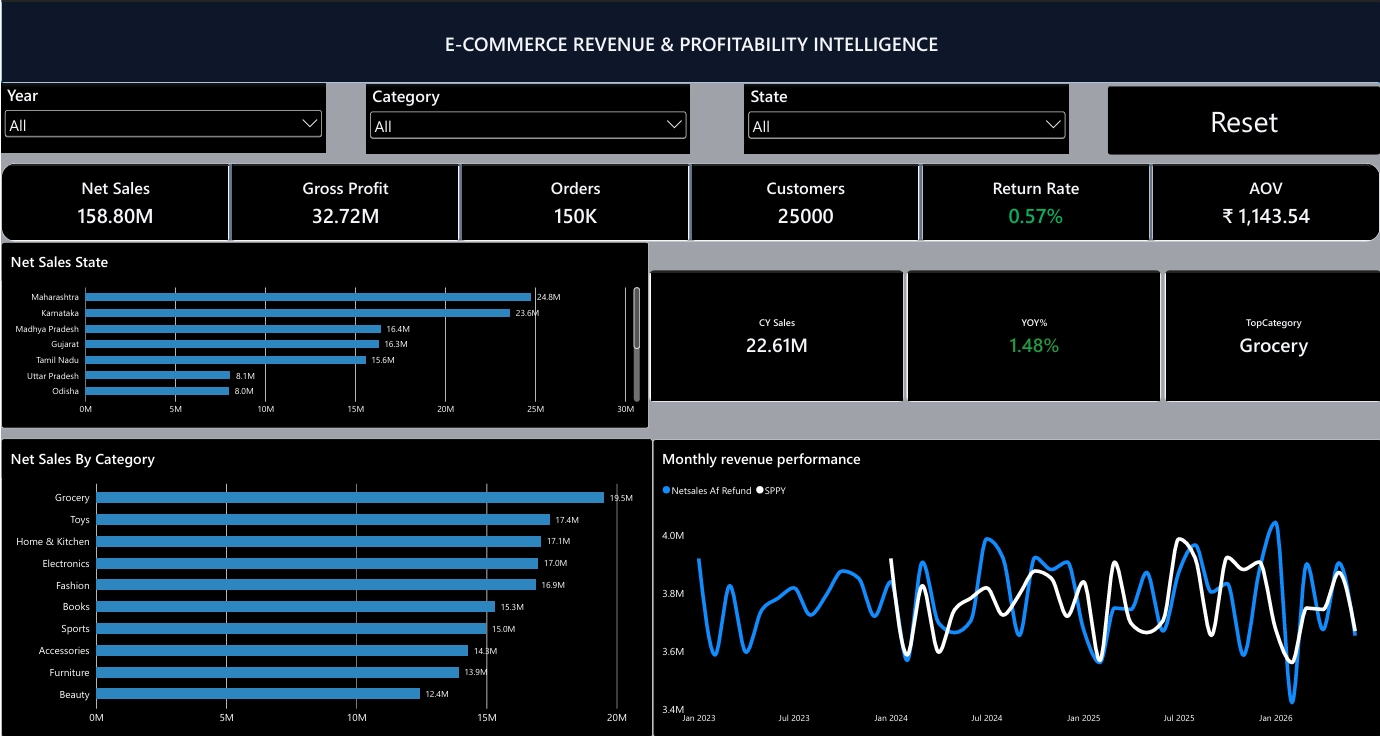

What the dashboard file says about the page in this screenshot:
{"tool":"powerbi","page":{"name":"Page 1","canvas":[1920,1080],"ordinal":0},"visuals":[{"type":"slicer","fields":{"Values":["DimDate.Year"]},"box":[0,116.9,450.8,96],"z":0},{"type":"actionButton","box":[1539.4,121.3,378.7,94.7],"z":1000},{"type":"lineChart","title":"Monthly revenue performance","fields":{"Category":["DimDate.Date.Variation.Date Hierarchy.Year","DimDate.Date.Variation.Date Hierarchy.Month"],"Y":["Measure.Netsales Af Refund","Measure.SPPY"]},"box":[906,612,1014,414],"z":2000},{"type":"cardVisual","fields":{"Data":["Measure.CY Sales","Measure.YOY% YTD"]},"box":[901.2,376.9,712.8,182.9],"z":3000},{"type":"cardVisual","fields":{"Data":["Measure.TopCategory"]},"box":[1617.8,376.9,302.3,182.9],"z":4000},{"type":"barChart","title":"Net Sales By Category","fields":{"Category":["categories.category_name"],"Y":["Measure.Netsales Af Refund"]},"box":[0,611,905.5,416],"z":5000},{"type":"cardVisual","fields":{"Data":["Measure.Netsales Af Refund","Measure.Profit","Measure.Total Orders","Measure.Total Customers","Measure.ReturnRate","DimDate.AOV"]},"box":[0,228.2,1918.4,109.1],"z":6000},{"type":"clusteredBarChart","title":"Net Sales State","fields":{"Category":["orders.shipping_state"],"Y":["Measure.Netsales Af Refund"]},"box":[0,337.7,901.2,259.4],"z":7000},{"type":"shape","box":[0,0,1917.8,116],"z":8000},{"type":"slicer","fields":{"Values":["categories.category_name"]},"box":[507.5,119.4,450.8,96],"z":9000},{"type":"slicer","fields":{"Values":["orders.shipping_state"]},"box":[1033.7,119.4,450.8,96],"z":10000},{"type":"cardVisual","fields":{"Data":["Measure.EXECUTIVE PAGE TITLE"]},"box":[0,0,1918.2,115.7],"z":11000}]}

Visuals, with their boxes on the page's 1920x1080 design canvas (x1, y1, x2, y2). These are canvas units, not pixel positions in the 1380x736 screenshot, which may show the page scaled, cropped or inside an application window:
slicer - DimDate.Year: left=0, top=117, right=451, bottom=213
actionButton: left=1539, top=121, right=1918, bottom=216
"Monthly revenue performance" lineChart: left=906, top=612, right=1920, bottom=1026
cardVisual - Measure.CY Sales x Measure.YOY% YTD: left=901, top=377, right=1614, bottom=560
cardVisual - Measure.TopCategory: left=1618, top=377, right=1920, bottom=560
"Net Sales By Category" barChart: left=0, top=611, right=906, bottom=1027
cardVisual - Measure.Netsales Af Refund x Measure.Profit: left=0, top=228, right=1918, bottom=337
"Net Sales State" clusteredBarChart: left=0, top=338, right=901, bottom=597
shape: left=0, top=0, right=1918, bottom=116
slicer - categories.category_name: left=508, top=119, right=958, bottom=215
slicer - orders.shipping_state: left=1034, top=119, right=1484, bottom=215
cardVisual - Measure.EXECUTIVE PAGE TITLE: left=0, top=0, right=1918, bottom=116
